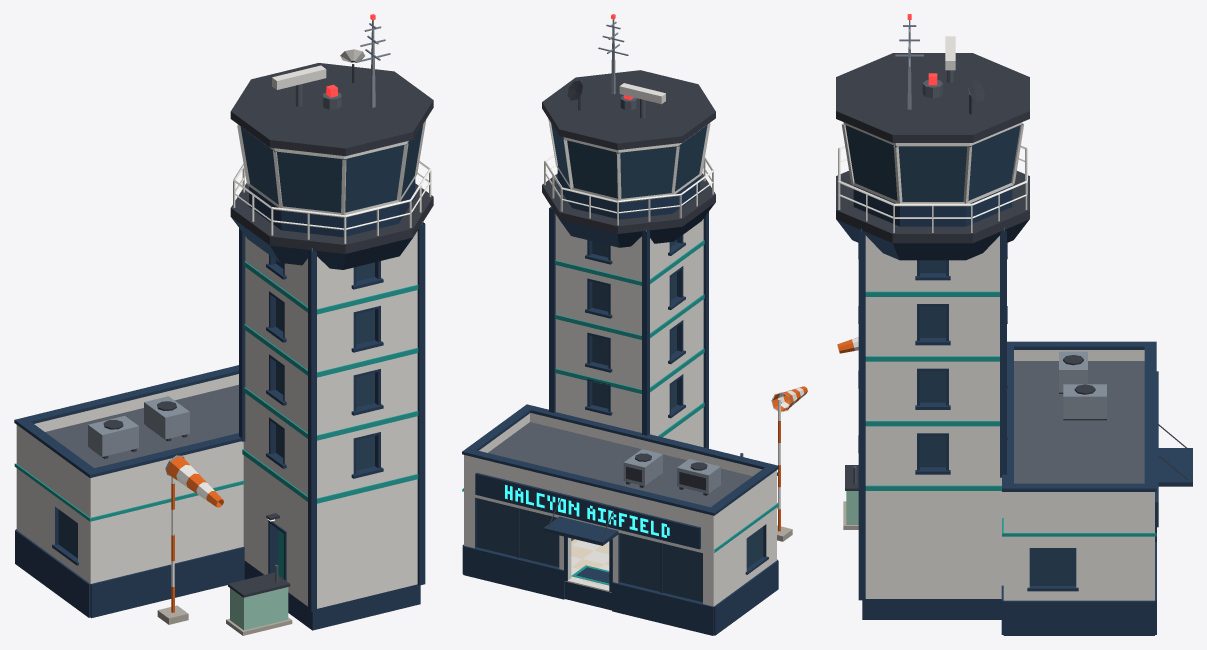
The model's file is airport_tower.glb.
3 views of the same model, side by side, from view 1: azimuth 30°, elevation 25°; view 2: azimuth 150°, elevation 25°; view 3: azimuth 270°, elevation 25° (orthographic). The views are drawn at different scales.
Visible parts, largest first — view 1: Building, Building_Detail, Building_Glass; view 2: Building, Building_Detail, Building_Glass, Building_Neon; view 3: Building, Building_Detail, Building_Glass.
Part boxes in pixels (x1,y1,x2,y2): Building: (14, 63, 433, 635); Building_Detail: (88, 14, 431, 612); Building_Glass: (58, 125, 422, 558); Building: (462, 70, 792, 635); Building_Detail: (475, 14, 807, 585); Building_Glass: (476, 123, 763, 602); Building_Neon: (505, 485, 669, 537); Building: (836, 53, 1156, 635); Building_Detail: (837, 14, 1192, 600); Building_Glass: (844, 124, 1076, 585).
Size of the model in its own units: 12 by 22.46 by 12.25.
